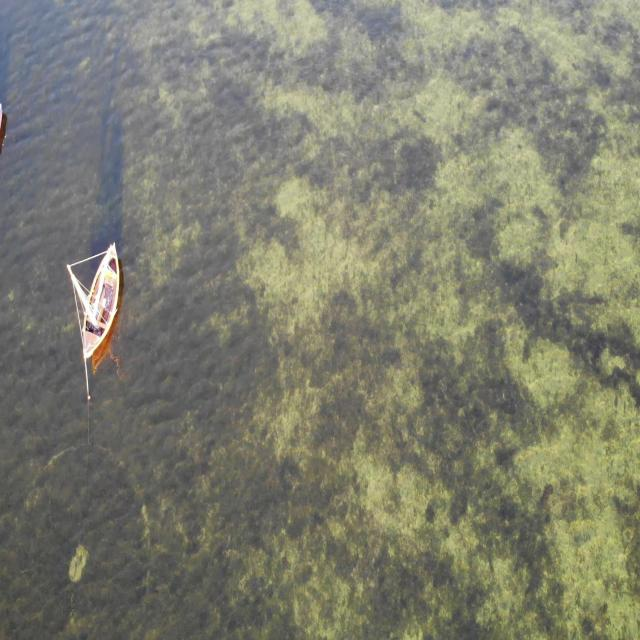sailboat: (66, 236, 122, 361)
